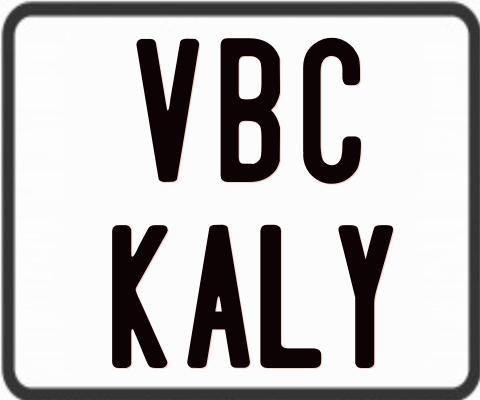A: (185, 224, 252, 368)
B: (219, 36, 278, 183)
C: (301, 38, 363, 185)
K: (110, 222, 172, 365)
L: (260, 223, 326, 369)
V: (136, 37, 199, 182)
Y: (339, 225, 397, 374)
